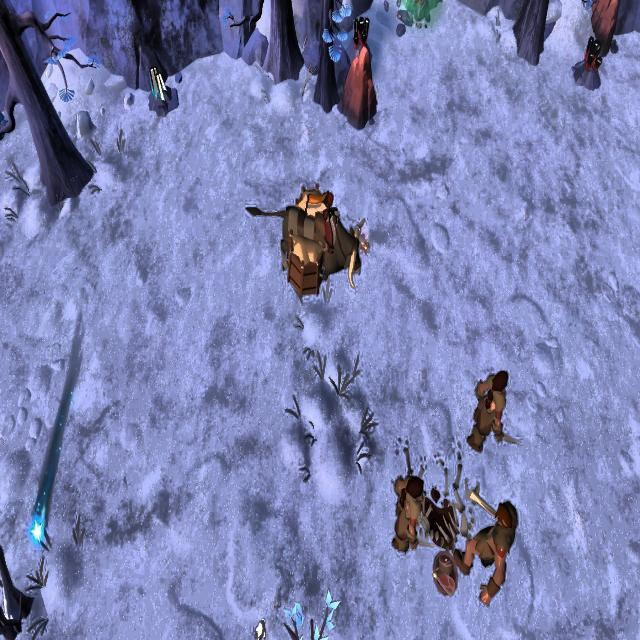enemy_factionKeeper: (467, 478, 519, 599), (467, 357, 508, 455), (389, 468, 427, 558)
ore_t4: (148, 58, 169, 110)
ore_t5: (581, 32, 603, 74), (352, 12, 370, 49)
rock_t5: (335, 51, 379, 132), (590, 0, 622, 57)
